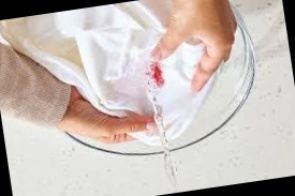blood: (144, 63, 166, 89)
